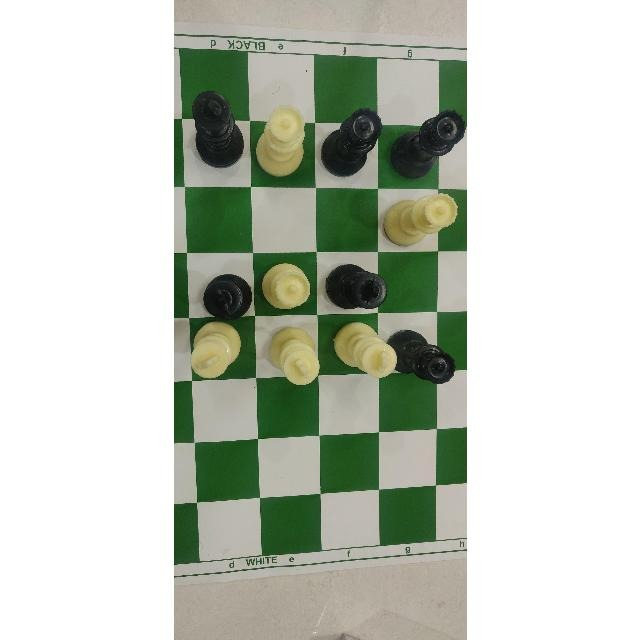black-king: (179, 91, 243, 172), (322, 254, 386, 311), (194, 275, 250, 323)
black-queen: (395, 105, 461, 179), (319, 113, 385, 177), (389, 327, 455, 389)
white-king: (334, 321, 395, 383), (264, 326, 320, 390), (182, 326, 237, 384)
white-queen: (383, 190, 457, 246), (255, 100, 302, 181), (260, 260, 310, 312)
